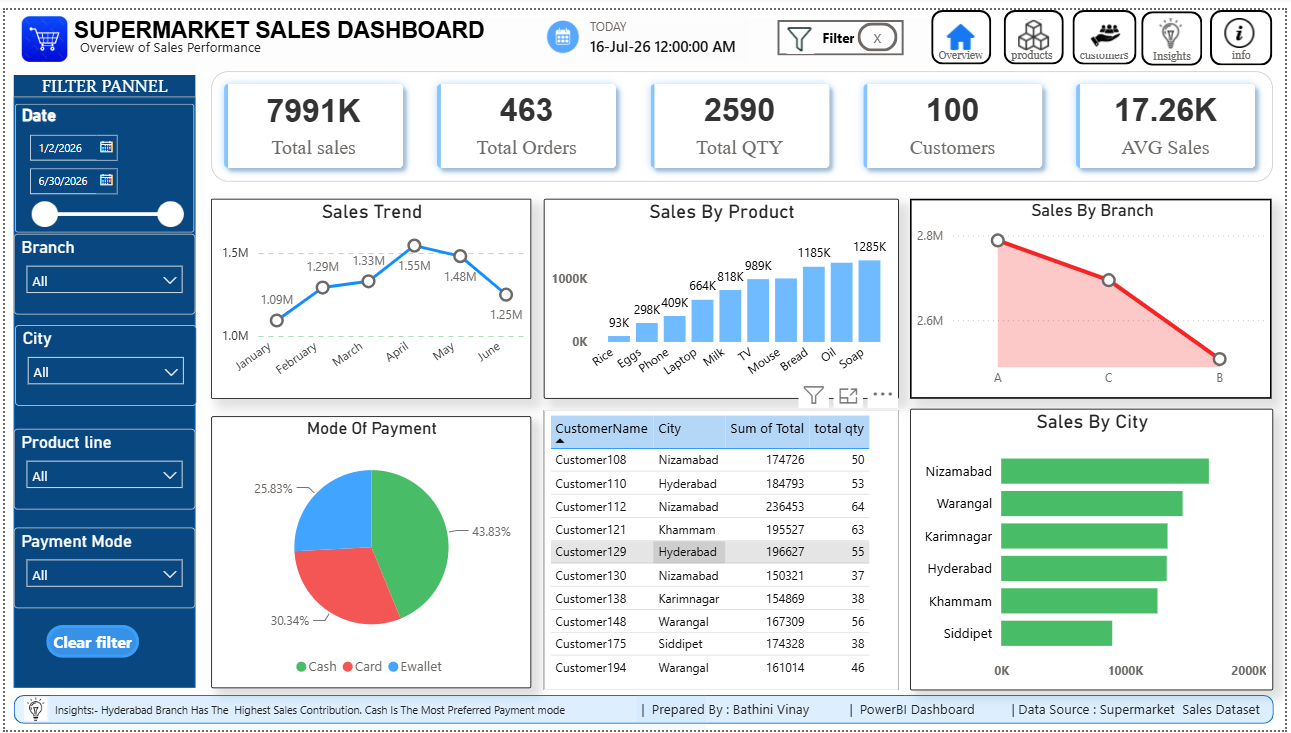

The dashboard page shown, as its layout file describes it:
{"tool":"powerbi","page":{"name":"Dashboard","canvas":[1280,720],"ordinal":0},"visuals":[{"type":"shape","title":"title ","box":[55.7,7.1,871.4,54.3],"z":0},{"type":"shape","title":"FILTER PANNEL","box":[8.8,65.1,181.8,613],"z":0,"group":"g1"},{"type":"shape","box":[8.8,685,1260,28.8],"z":0,"group":"g2"},{"type":"image","title":"cart logo","box":[8.6,5.7,61.4,45.7],"z":1000},{"type":"slicer","title":"Date","fields":{"Values":["Sales.Date"]},"box":[10.2,94,178.9,128.7],"z":1000,"group":"g1"},{"type":"image","box":[17.6,687.5,26.7,23.3],"z":1000,"group":"g2"},{"type":"textbox","title":"sub title","box":[70,22.9,214.3,31.4],"z":2000},{"type":"slicer","title":"Branch","fields":{"Values":["Branches.City"]},"box":[8.8,224.1,181.8,81],"z":2000,"group":"g1"},{"type":"textbox","box":[45,685,656.2,35],"z":2000,"group":"g2"},{"type":"cardVisual","title":"date","fields":{"Data":["Branches.TODAY"]},"box":[579.4,2.5,161.2,49.4],"z":3000},{"type":"slicer","title":"City","fields":{"Values":["Customers.City"]},"box":[10.2,315.2,181.8,81],"z":3000,"group":"g1"},{"type":"textbox","box":[631.3,685,636.2,28.8],"z":3000,"group":"g2"},{"type":"image","title":"calander logo","box":[537.8,10,41.1,33.3],"z":4000},{"type":"slicer","title":"Product line","fields":{"Values":["Products.ProductName"]},"box":[8.8,419.3,181.8,81],"z":4000,"group":"g1"},{"type":"actionButton","title":"filter button","box":[773.1,10,126.2,35.4],"z":5000},{"type":"slicer","title":"Payment Mode","fields":{"Values":["Sales.Payment"]},"box":[8.8,517.4,181.8,81],"z":5000,"group":"g1"},{"type":"actionButton","title":"home button","box":[926.7,0,60,54.4],"z":6000},{"type":"actionButton","title":"clear","box":[41.5,615.7,92.9,32.9],"z":6000,"group":"g1"},{"type":"actionButton","title":"products button","box":[998.9,0,60,54.4],"z":7000},{"type":"actionButton","title":"customers button","box":[1068,0,64,54.7],"z":8000},{"type":"actionButton","title":"insights button","box":[1136.7,1.1,61.1,54.4],"z":9000},{"type":"actionButton","title":"info button","box":[1205.6,0,62.2,55.6],"z":10000},{"type":"cardVisual","title":"kpi cards","fields":{"Data":["Sales.total sales","CountNonNull(Sales.InvoiceID)","Sum(Sales.Quantity)","CountNonNull(Customers.CustomerID)","Sales.average sales"]},"box":[206.7,61.7,1061.7,110],"z":11000},{"type":"lineChart","title":"Sales Trend","fields":{"Category":["Calendar.month name"],"Y":["Sales.total sales"]},"box":[206.7,188.3,320,200],"z":12000},{"type":"columnChart","title":"Sales By Product","fields":{"Y":["Sum(Sales.Total)"],"Category":["Products.ProductName"]},"box":[538.3,188.3,355,200],"z":13000},{"type":"areaChart","title":"Sales By Branch","fields":{"Category":["Branches.BranchName"],"Y":["Sum(Sales.Total)"]},"box":[905,188.3,361.7,200],"z":14000},{"type":"pieChart","title":"Mode Of Payment","fields":{"Category":["Sales.Payment"],"Y":["Sum(Sales.Total)"]},"box":[206.7,406.7,320,271.7],"z":15000},{"type":"clusteredBarChart","title":"Sales By City","fields":{"Category":["Customers.City"],"Y":["Sum(Sales.Total)"]},"box":[905,398.3,363.3,281.7],"z":16000},{"type":"tableEx","fields":{"Values":["Customers.CustomerName","Customers.City","Sum(Sales.Total)","Sales.total qty"]},"box":[538.3,400,355,280],"z":17000},{"type":"group","id":"g1","title":"filter pannel","box":[8.8,65.1,183.2,613],"z":18000},{"type":"group","id":"g2","title":"bottom pannel","box":[8.8,685,1260,35],"z":19000},{"type":"actionButton","box":[853,13,40,29],"z":20000}]}

Visuals, with their boxes in screenshot pixels (x1, y1, x2, y2), scaled from the page's 1280x720 canvas onto the 1291x733 screenshot:
"title " shape: l=56, t=7, r=935, b=63
"FILTER PANNEL" shape: l=9, t=66, r=192, b=690
shape: l=9, t=697, r=1280, b=727
"cart logo" image: l=9, t=6, r=71, b=52
"Date" slicer: l=10, t=96, r=191, b=227
image: l=18, t=700, r=45, b=724
"sub title" textbox: l=71, t=23, r=287, b=55
"Branch" slicer: l=9, t=228, r=192, b=311
textbox: l=45, t=697, r=707, b=732
"date" cardVisual: l=584, t=3, r=747, b=53
"City" slicer: l=10, t=321, r=194, b=403
textbox: l=637, t=697, r=1278, b=727
"calander logo" image: l=542, t=10, r=584, b=44
"Product line" slicer: l=9, t=427, r=192, b=509
"filter button" actionButton: l=780, t=10, r=907, b=46
"Payment Mode" slicer: l=9, t=527, r=192, b=609
"home button" actionButton: l=935, t=0, r=995, b=55
"clear" actionButton: l=42, t=627, r=136, b=660
"products button" actionButton: l=1007, t=0, r=1068, b=55
"customers button" actionButton: l=1077, t=0, r=1142, b=56
"insights button" actionButton: l=1146, t=1, r=1208, b=57
"info button" actionButton: l=1216, t=0, r=1279, b=57
"kpi cards" cardVisual: l=208, t=63, r=1279, b=175
"Sales Trend" lineChart: l=208, t=192, r=531, b=395
"Sales By Product" columnChart: l=543, t=192, r=901, b=395
"Sales By Branch" areaChart: l=913, t=192, r=1278, b=395
"Mode Of Payment" pieChart: l=208, t=414, r=531, b=691
"Sales By City" clusteredBarChart: l=913, t=405, r=1279, b=692
tableEx - Customers.CustomerName x Customers.City: l=543, t=407, r=901, b=692
"filter pannel" group: l=9, t=66, r=194, b=690
"bottom pannel" group: l=9, t=697, r=1280, b=732
actionButton: l=860, t=13, r=901, b=43
